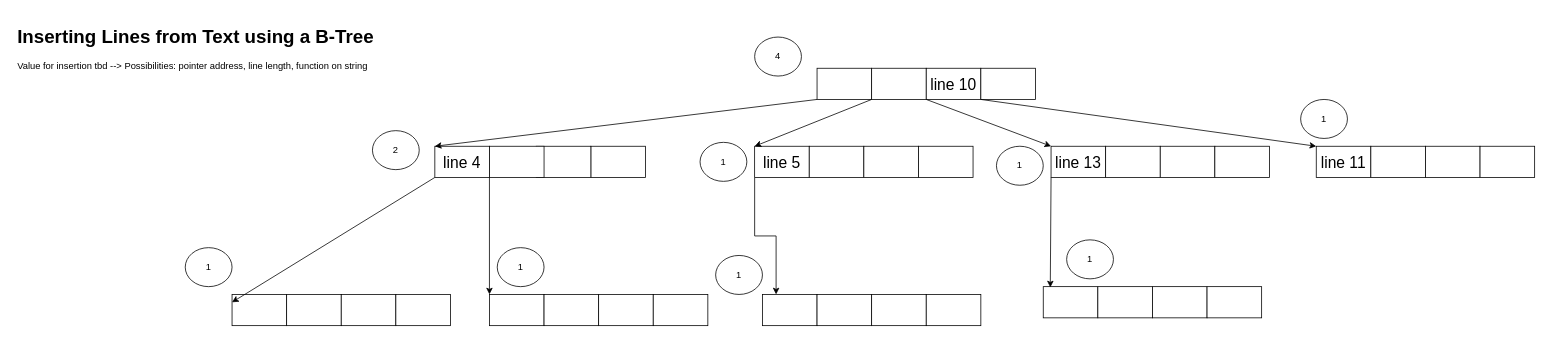
Image size: 1548x339. Some labels were removed from this diagram. The shapes that lost their labels are listed below. From the top down, each one's box as (x1, y1, x2, y2) in pixels, then its label:
(816, 67, 872, 99): line 3
(871, 67, 926, 99): line 8
(980, 67, 1035, 99): line 7
(231, 294, 287, 326): Line 1
(489, 294, 544, 326): line 2
(762, 294, 817, 326): line 12
(1042, 286, 1098, 318): line 19
